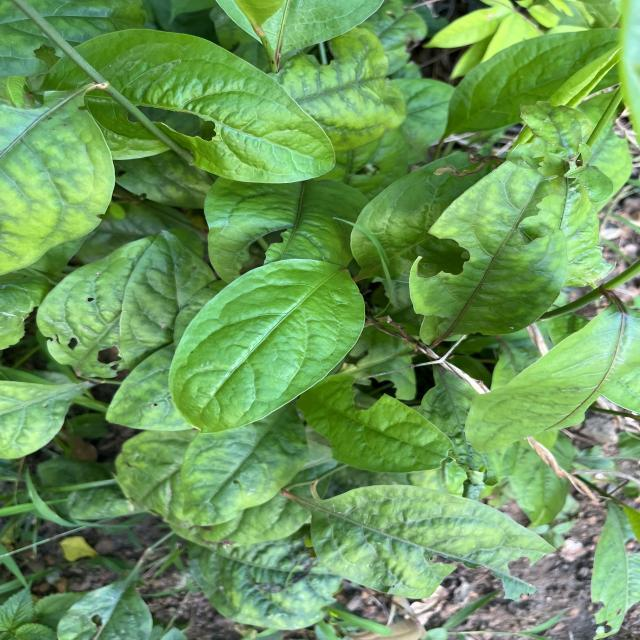Plumbago indica: (39, 27, 338, 185), (166, 254, 370, 436)
